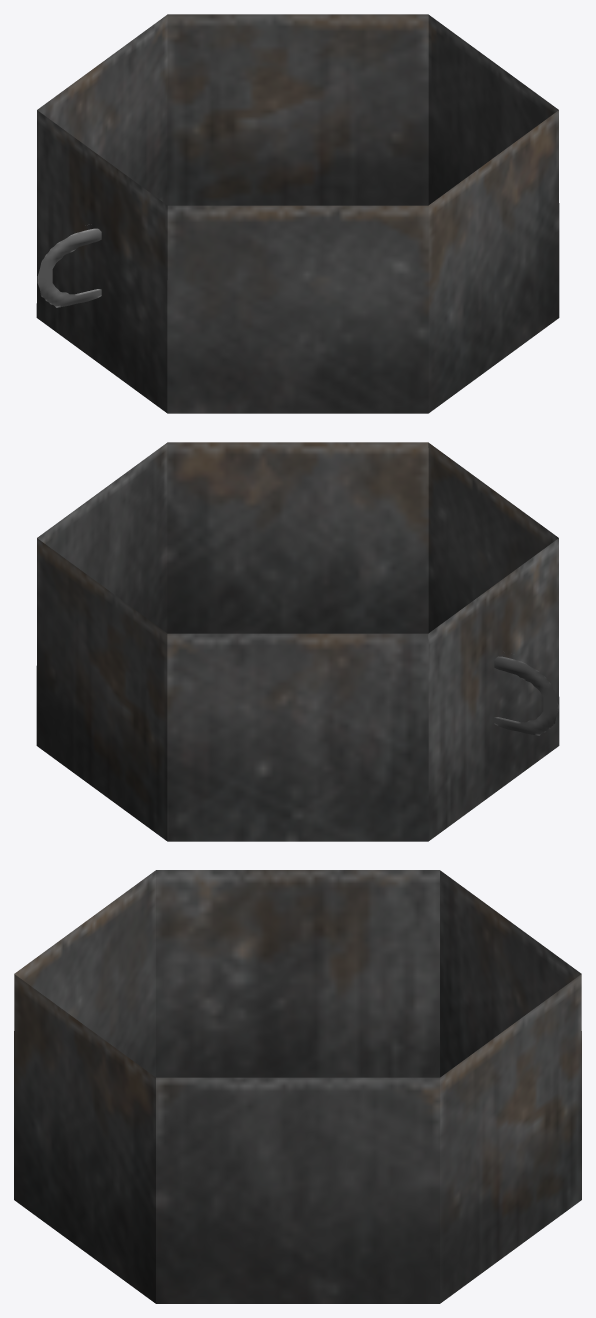
Rendered from Pot_1.fbx.
The picture shows the model from 3 angles, top to bottom: view 1: azimuth 30°, elevation 25°; view 2: azimuth 150°, elevation 25°; view 3: azimuth 270°, elevation 25°; orthographic projection. The views are drawn at different scales.
Visible parts, largest first — view 1: Pot_1; view 2: Pot_1; view 3: Pot_1.
Boxes of the visible parts, <box> form: Pot_1: <box>36,14,559,413</box>; Pot_1: <box>36,442,559,841</box>; Pot_1: <box>14,870,581,1303</box>.
Bounding box in the file's own units: 32.34 × 11.32 × 25.77.
